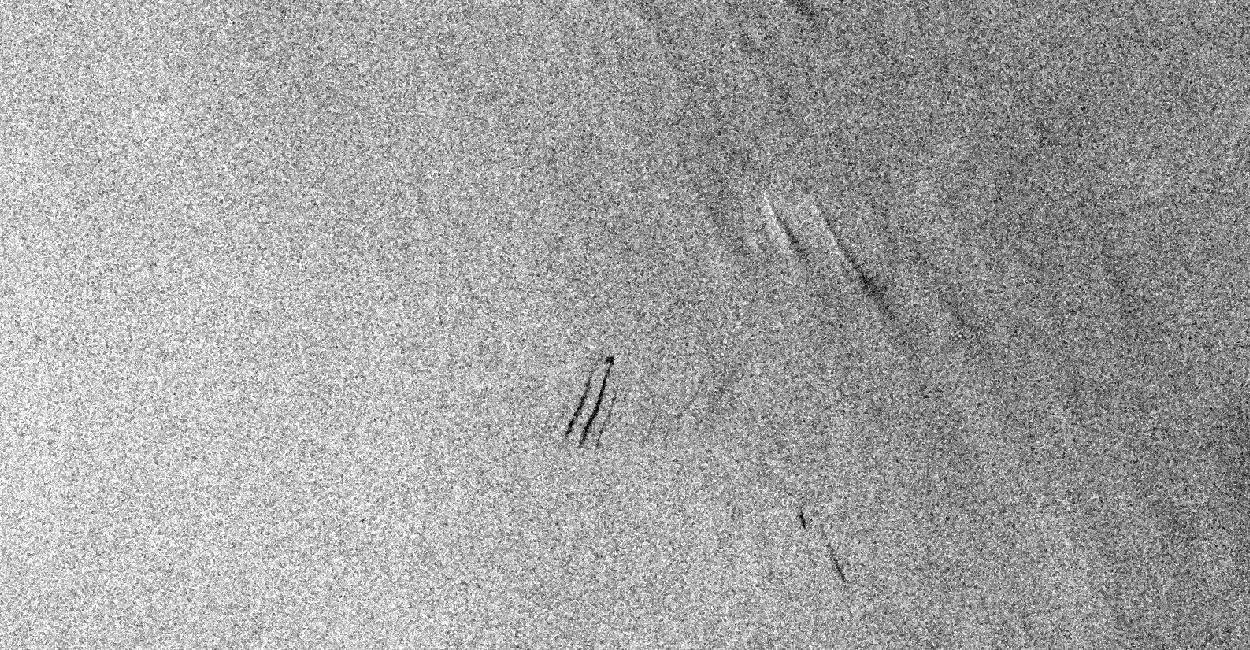Oil Spill: (578, 376, 608, 446), (562, 374, 592, 439), (598, 396, 618, 436), (605, 355, 616, 366), (594, 438, 602, 450), (604, 366, 610, 374)
